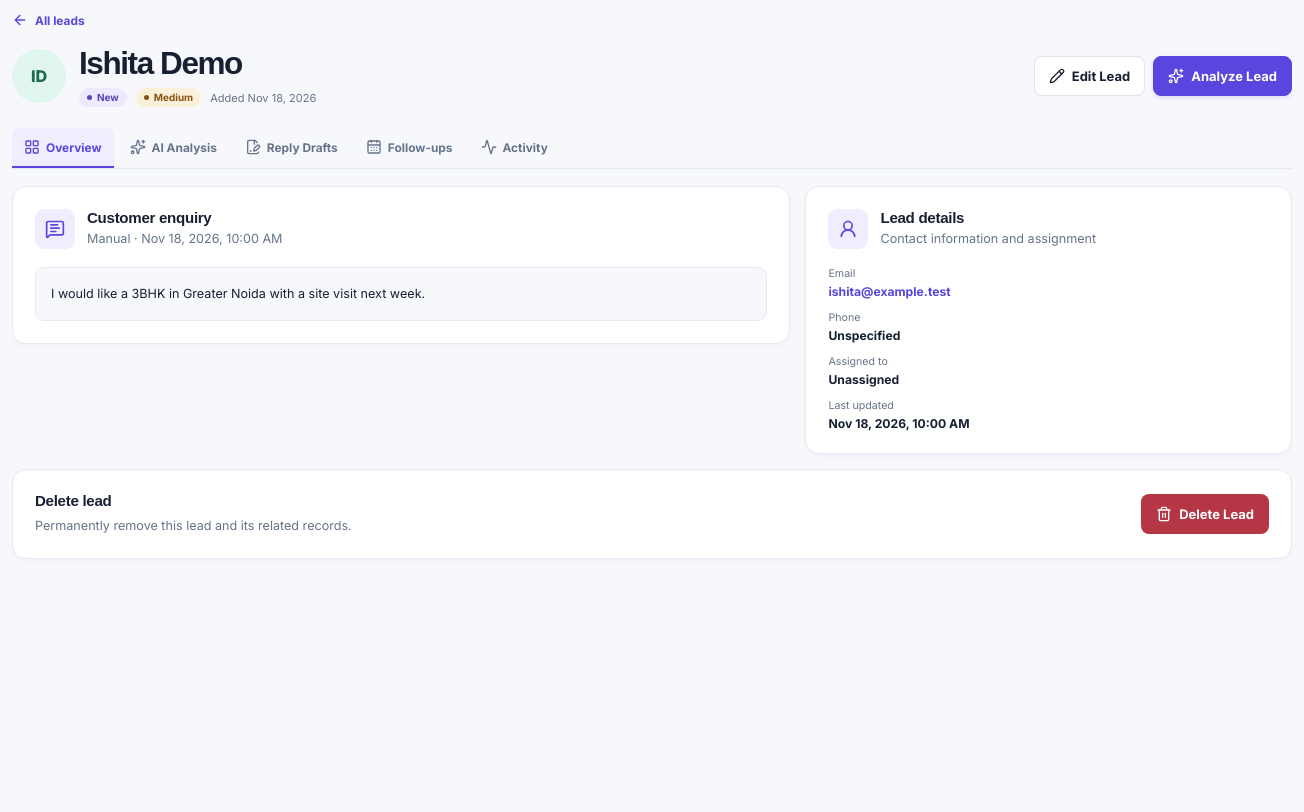
Test: lead workflow › shows an analysis failure and keeps the lead enquiry available
Expected: the text "I would like a 3BHK in Greater Noida with a site visit next week." is shown, [35,267,768,320]
Click the button "Analyze Lead": point(1223, 76) [1153,56,1292,96]
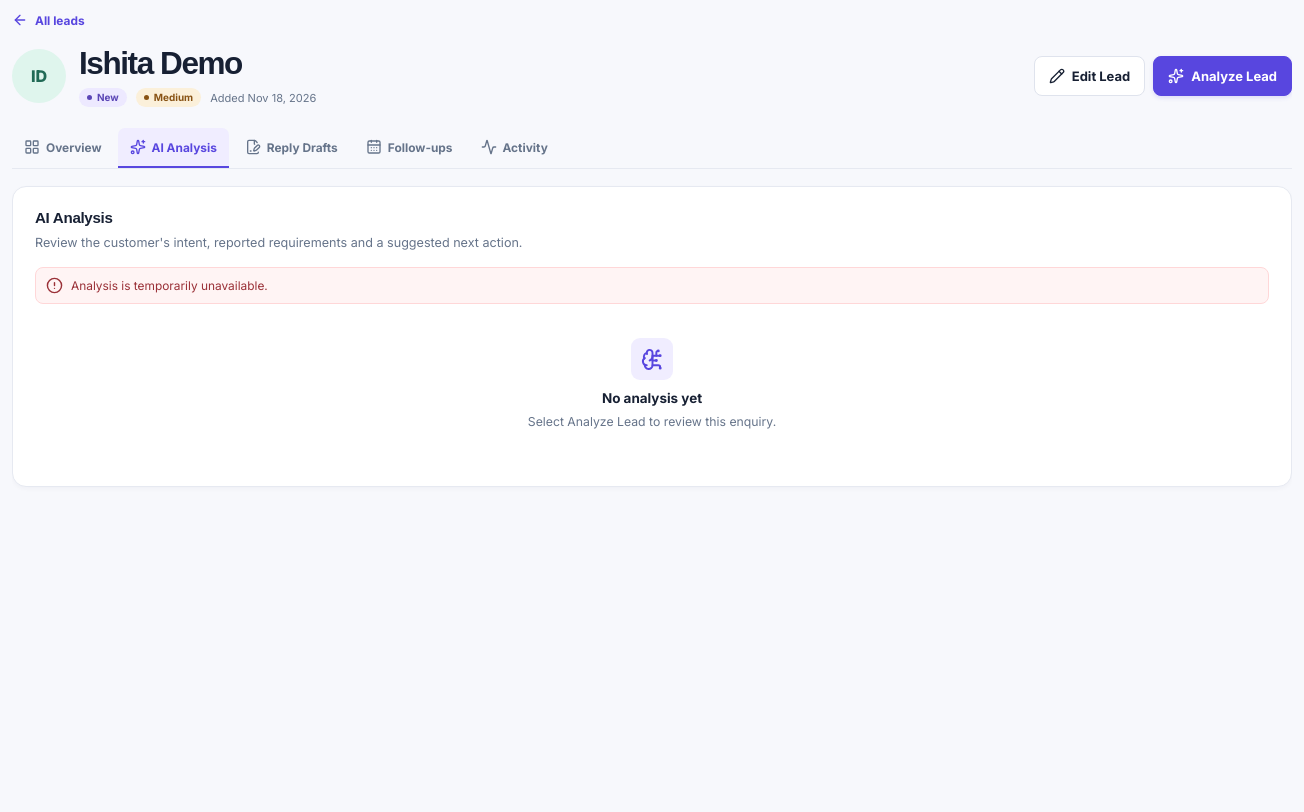
Expected: the message reads "Analysis is temporarily unavailable.", [71,278,268,293]
Click the link "Overview": point(63, 147) [24,139,102,155]
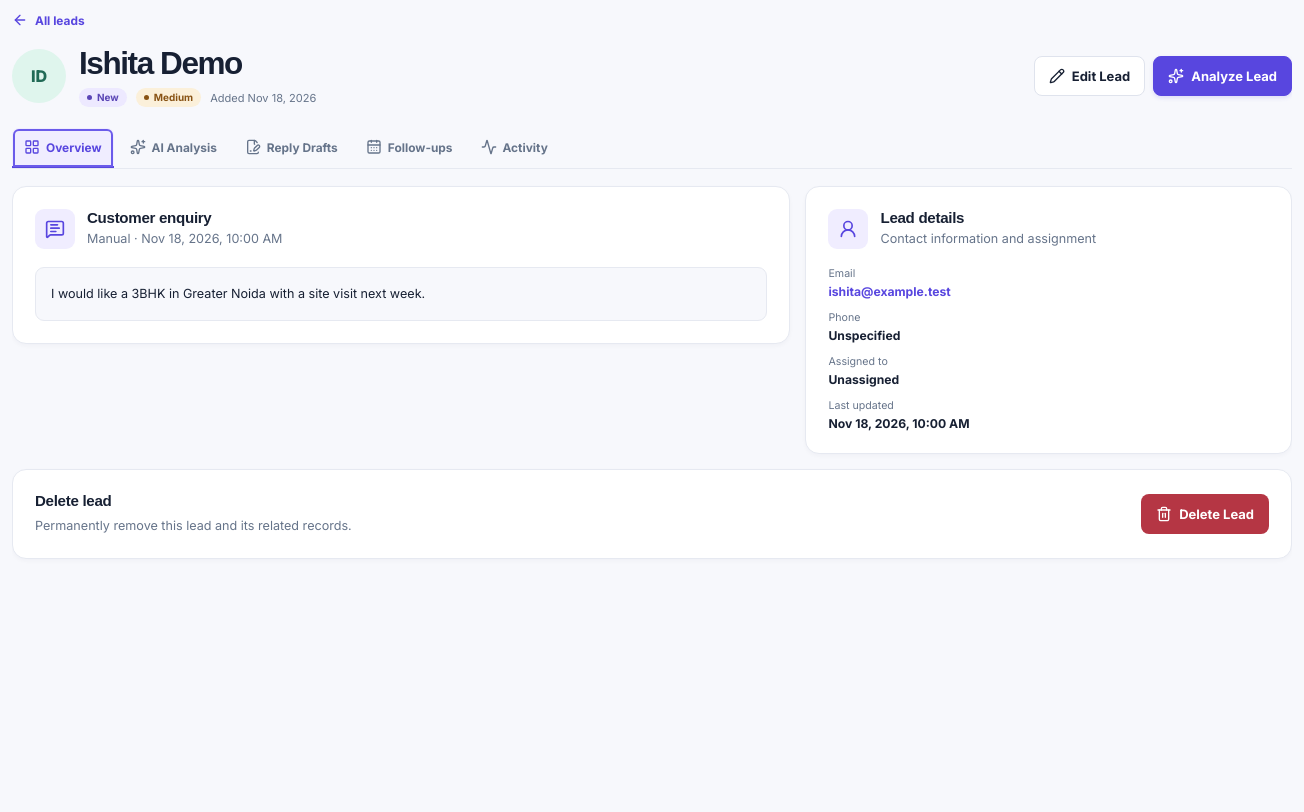
Expected: the text "I would like a 3BHK in Greater Noida with a site visit next week." is shown, [35,267,768,320]
